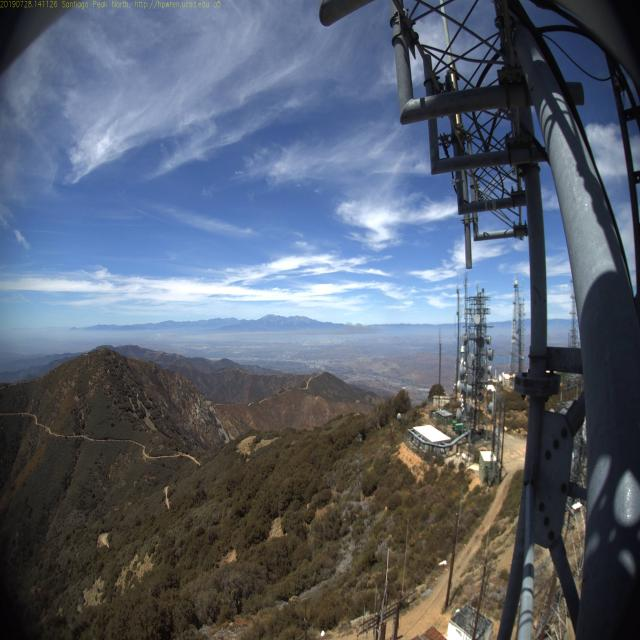smoke: (144, 328, 161, 344)
